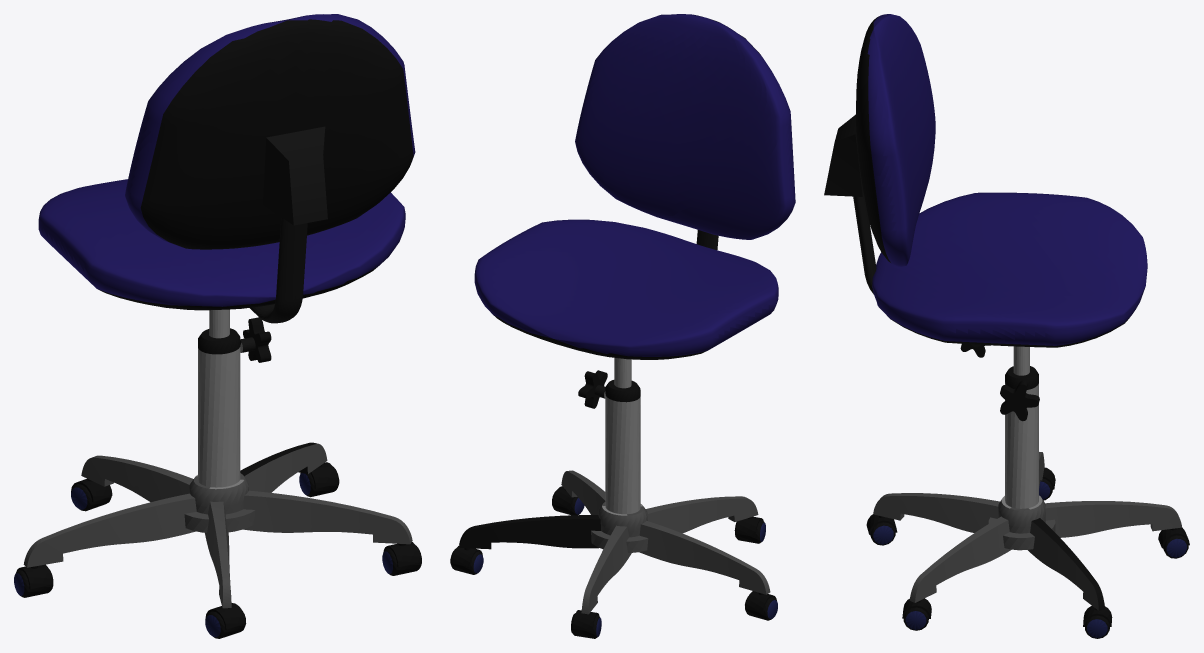
File: office_chair2.dae
3 views of the same model, side by side, from view 1: azimuth 30°, elevation 25°; view 2: azimuth 150°, elevation 25°; view 3: azimuth 270°, elevation 25° (orthographic). The views are drawn at different scales.
Parts seen in each view (by area): view 1: DRSEAT (×18); view 2: DRSEAT (×14); view 3: DRSEAT (×15).
Part boxes in pixels (bbox=[...]): DRSEAT (×18): bbox=[23, 14, 420, 608]; DRSEAT (×14): bbox=[459, 14, 795, 614]; DRSEAT (×15): bbox=[824, 14, 1182, 610].
Bounding box in the file's own units: 1484 × 1528 × 2475.
